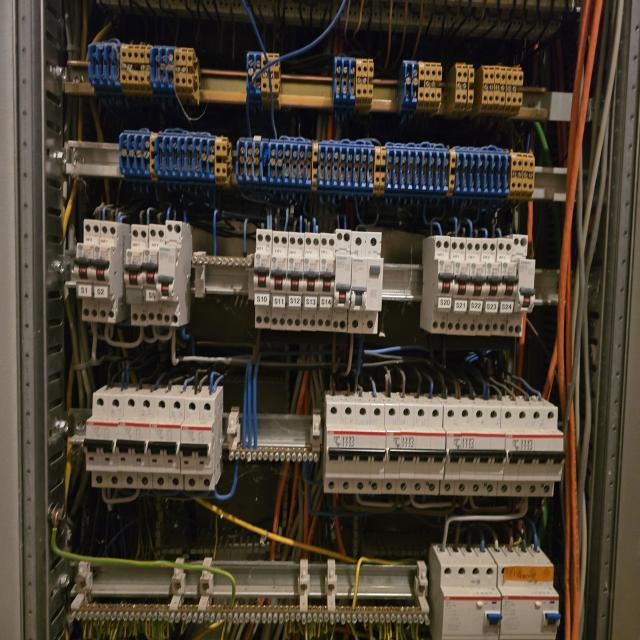FI: (497, 565, 561, 640), (440, 566, 503, 640)
FI_Sicherungskombi: (348, 232, 383, 334)
Schaltkasten: (0, 2, 640, 640)
Sicherungen_230V: (83, 392, 125, 488), (114, 394, 155, 489), (147, 396, 185, 490), (180, 398, 215, 490), (505, 234, 536, 337), (90, 221, 118, 324), (156, 220, 182, 327), (74, 219, 101, 322), (491, 238, 518, 336), (460, 237, 486, 335), (124, 225, 149, 326), (476, 238, 502, 335), (446, 236, 471, 334), (141, 225, 165, 326), (431, 236, 455, 334), (332, 229, 353, 332), (316, 233, 336, 332), (286, 232, 305, 331), (302, 232, 321, 331), (255, 228, 271, 328), (272, 230, 287, 332)
Sicherungen_400V: (438, 406, 477, 496), (524, 408, 563, 497), (497, 407, 535, 496), (469, 407, 506, 497), (410, 405, 446, 495), (352, 403, 387, 494), (381, 404, 416, 494), (324, 403, 357, 494)
Verbinder: (236, 137, 535, 202), (88, 41, 199, 103), (119, 130, 231, 187), (479, 65, 524, 116), (399, 60, 441, 111), (334, 58, 374, 108), (247, 52, 280, 106), (454, 65, 475, 112)
